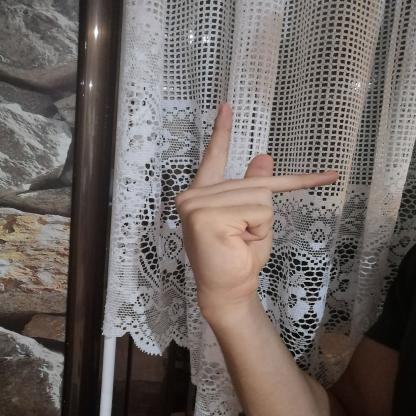DHAA: (161, 92, 355, 308)
